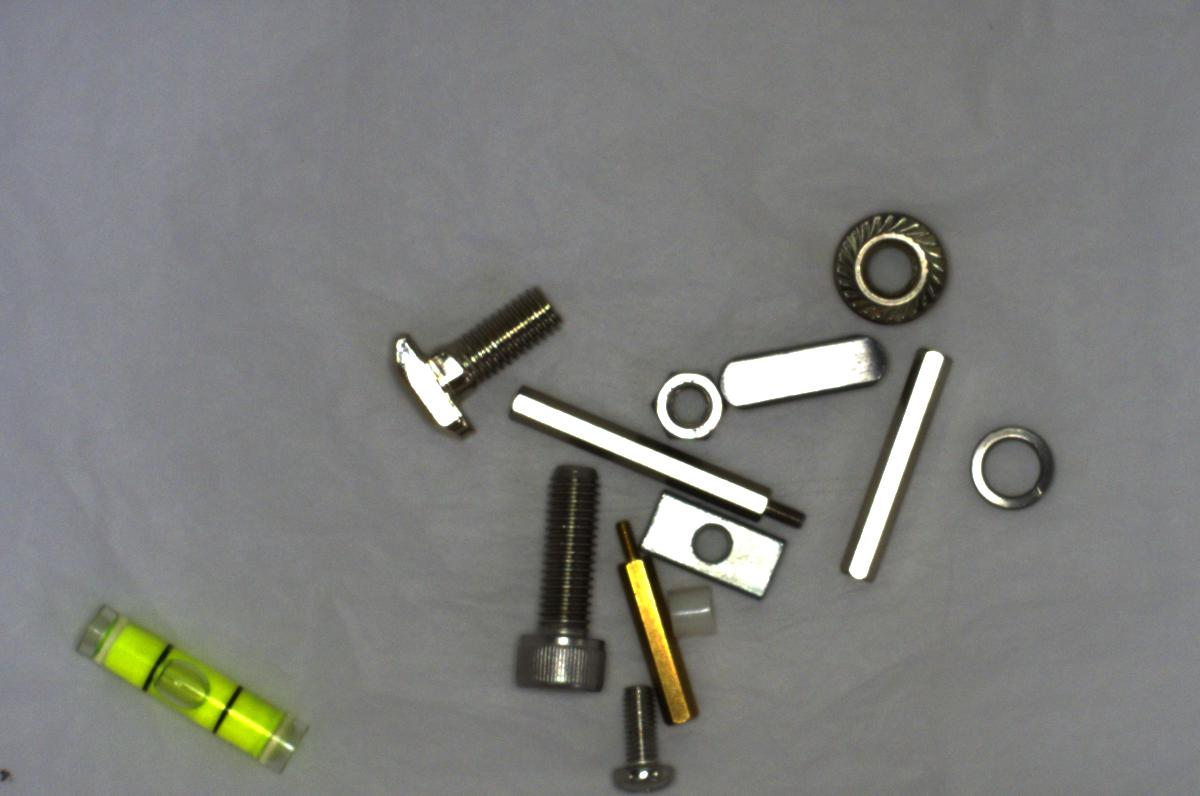Double hexagonal column: (823, 344, 958, 591)
Flange nut: (814, 200, 961, 333)
Hexagon nut: (641, 359, 728, 448)
Hexagon pillar: (610, 515, 703, 726)
Hexagon screw: (484, 459, 615, 700)
Hexagonal steel column: (507, 389, 811, 533)
Horizontal bubble: (71, 603, 319, 780)
Keybar: (708, 321, 894, 404)
Plastic cushion pillar: (660, 576, 723, 645)
Rectangular nut: (638, 490, 791, 605)
Round head screw: (596, 676, 684, 795)
Spring washer: (958, 415, 1069, 521)
T-shaped screw: (364, 271, 573, 453)
